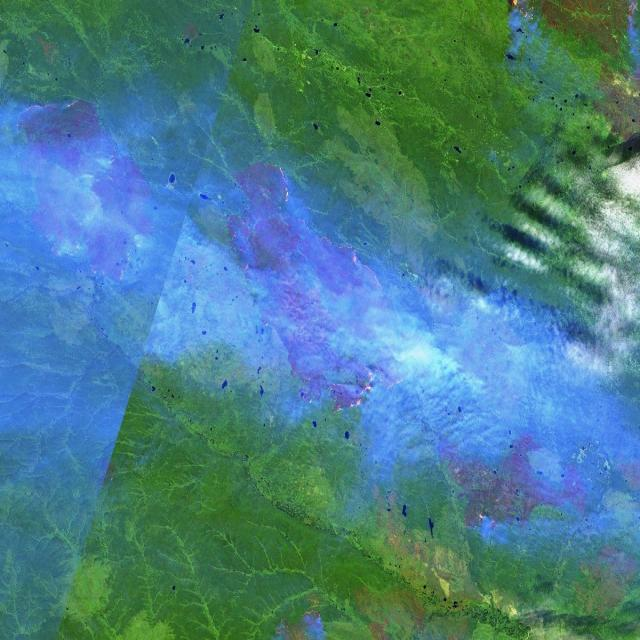fire: (214, 157, 422, 428), (466, 488, 504, 540)
